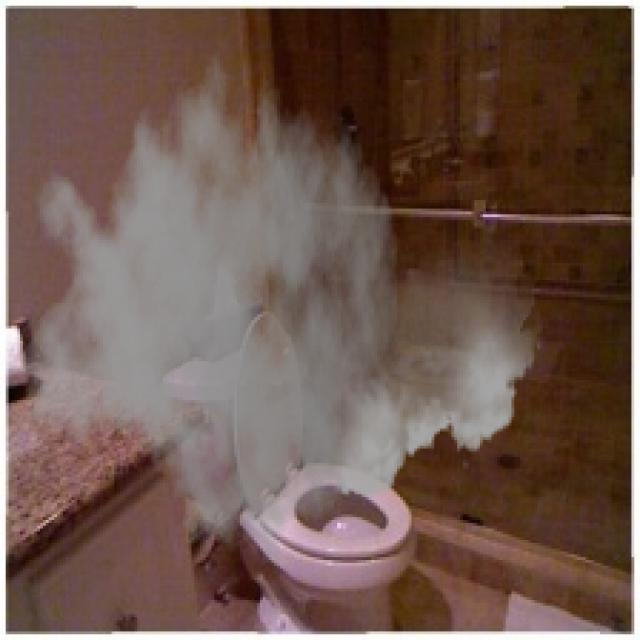smoke: (20, 26, 543, 566)
